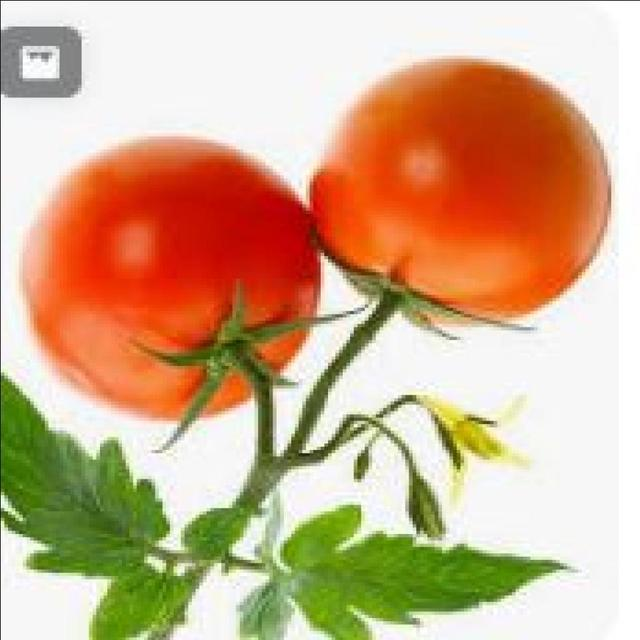Healthy Fruit: (116, 148, 313, 224)
